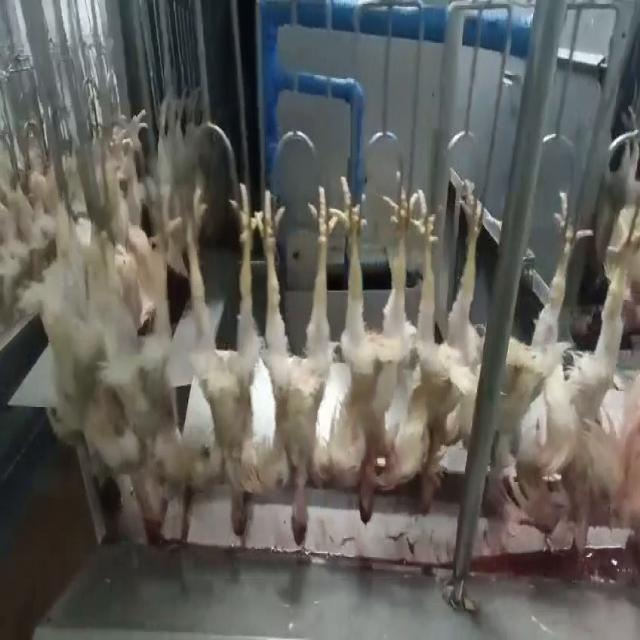chicken: (252, 176, 337, 552), (331, 177, 421, 528), (173, 182, 260, 537), (489, 200, 580, 530), (400, 185, 487, 514), (565, 186, 639, 563), (96, 189, 175, 530)
